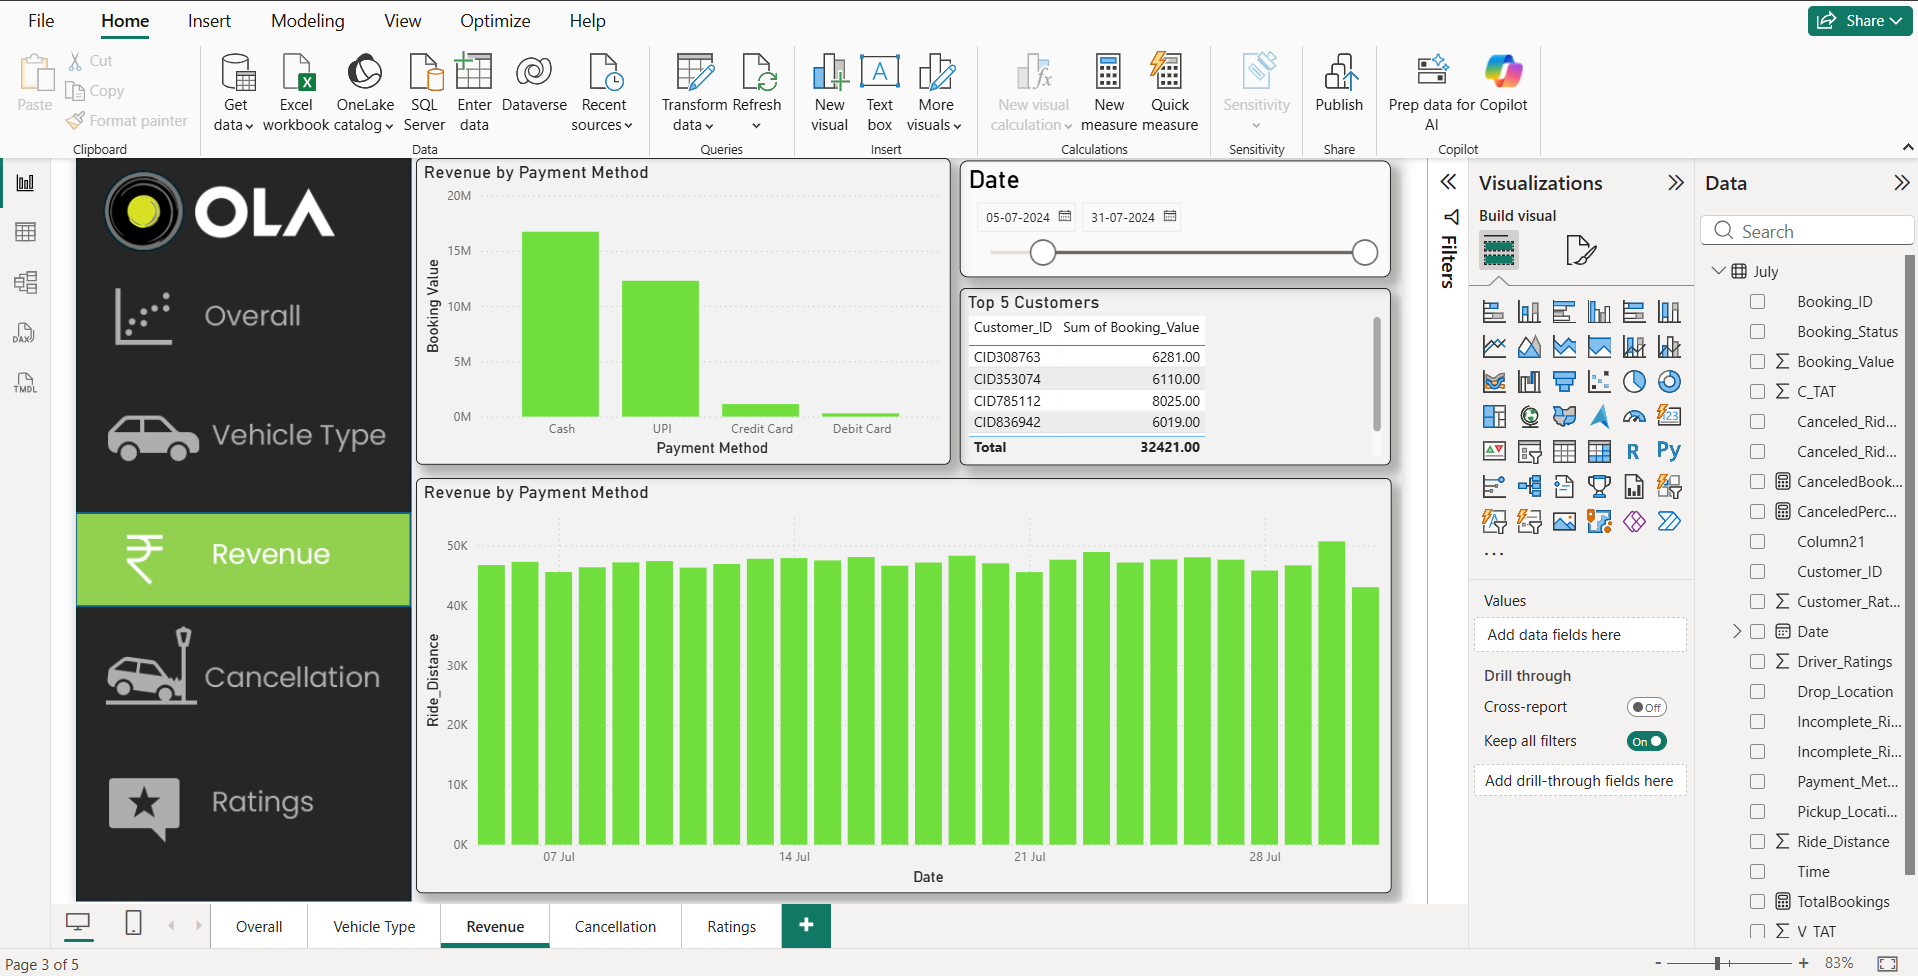

The page's visual inventory and layout, read from the dashboard file:
{"tool":"powerbi","page":{"name":"Revenue","canvas":[1280,720],"ordinal":2},"visuals":[{"type":"actionButton","box":[0,225.6,328.2,83.2],"z":0},{"type":"actionButton","box":[0,444,328.2,94.1],"z":1000},{"type":"actionButton","box":[0,581.5,319.7,79.6],"z":2000},{"type":"actionButton","box":[0,114.6,328.2,83.2],"z":3000},{"type":"columnChart","title":"Revenue by Payment Method","fields":{"Y":["Sum(July.Booking_Value)"],"Category":["July.Payment_Method"]},"box":[328,0,516,296.4],"z":4000},{"type":"columnChart","title":"Revenue by Payment Method","fields":{"Y":["Sum(July.Ride_Distance)"],"Category":["July.Date"]},"box":[328,308.7,941.3,400.7],"z":5000},{"type":"slicer","title":"Date","fields":{"Values":["July.Date"]},"box":[853.5,2.7,415.8,112.5],"z":6000},{"type":"tableEx","title":"Top 5 Customers","fields":{"Values":["July.Customer_ID","Sum(July.Booking_Value)"]},"box":[853.5,124.9,415.8,171.5],"z":7000}]}

Visuals, with their boxes on the page's 1280x720 design canvas (x1, y1, x2, y2). These are canvas units, not pixel positions in the 1918x976 screenshot, which may show the page scaled, cropped or inside an application window:
actionButton: (left=0, top=226, right=328, bottom=309)
actionButton: (left=0, top=444, right=328, bottom=538)
actionButton: (left=0, top=582, right=320, bottom=661)
actionButton: (left=0, top=115, right=328, bottom=198)
"Revenue by Payment Method" columnChart: (left=328, top=0, right=844, bottom=296)
"Revenue by Payment Method" columnChart: (left=328, top=309, right=1269, bottom=709)
"Date" slicer: (left=854, top=3, right=1269, bottom=115)
"Top 5 Customers" tableEx: (left=854, top=125, right=1269, bottom=296)
